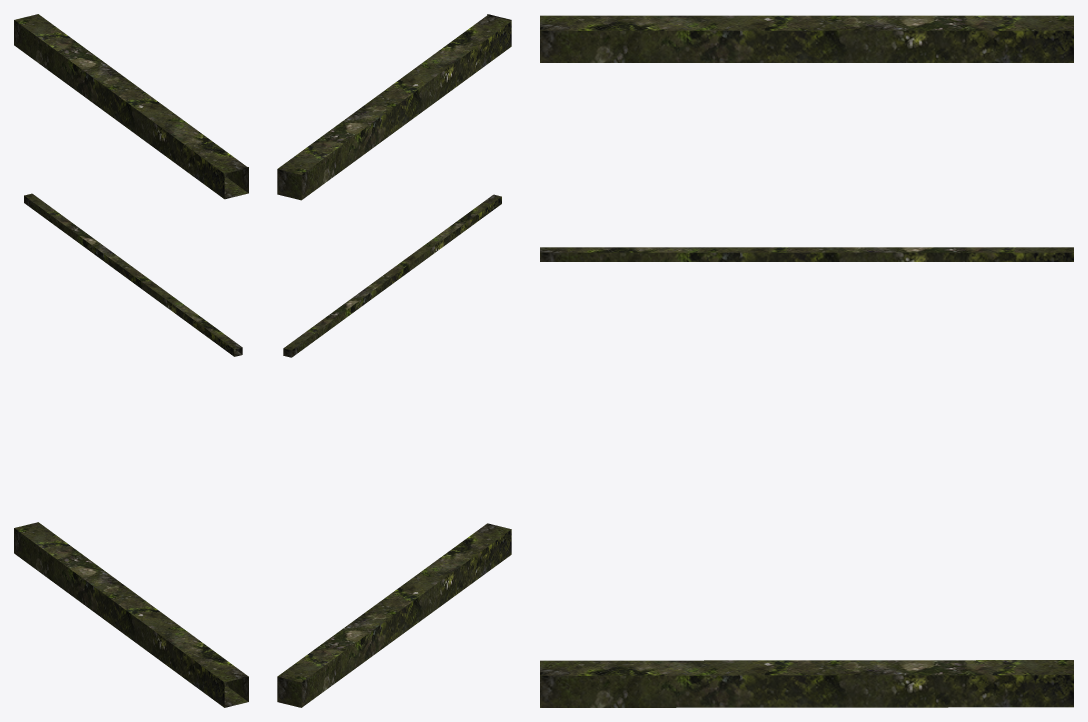
The model's file is metal-rail-nosides.obj.
3 views of the same model, side by side, from view 1: azimuth 30°, elevation 25°; view 2: azimuth 150°, elevation 25°; view 3: azimuth 270°, elevation 25° (orthographic). The views are drawn at different scales.
Visible parts, largest first — view 1: metal-rail-nosides; view 2: metal-rail-nosides; view 3: metal-rail-nosides.
Part boxes in pixels (x1,y1,x2,y2): metal-rail-nosides: (14, 14, 248, 707); metal-rail-nosides: (277, 14, 511, 707); metal-rail-nosides: (540, 15, 1073, 707).
Size of the model in its own units: 0.0625 by 1.32 by 0.9376.
